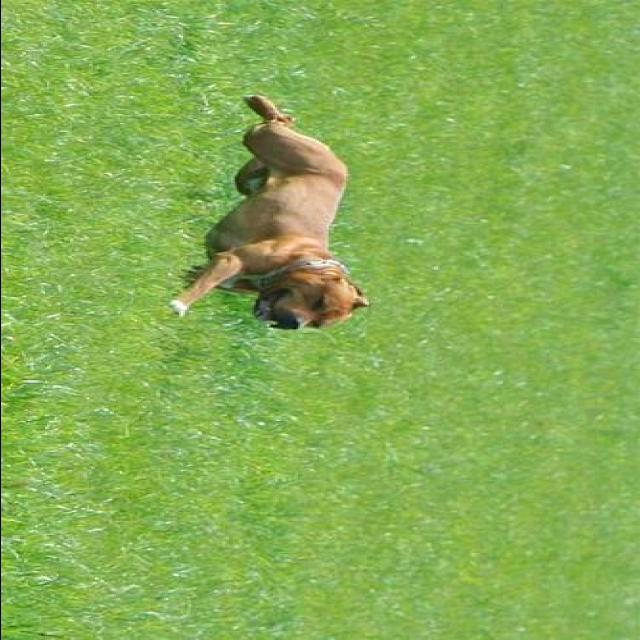staffordshire_bullterrier: (165, 94, 368, 332)
